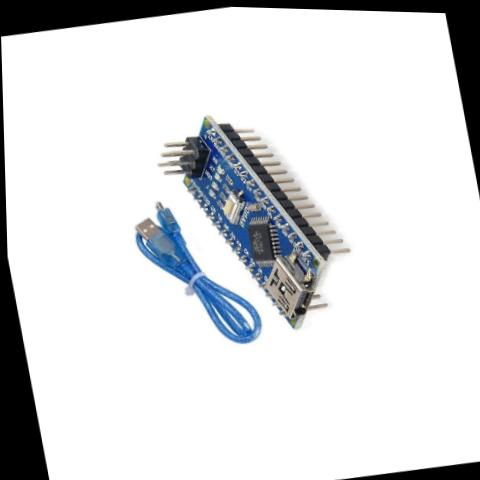Arduino-Nano: (142, 86, 368, 350)
